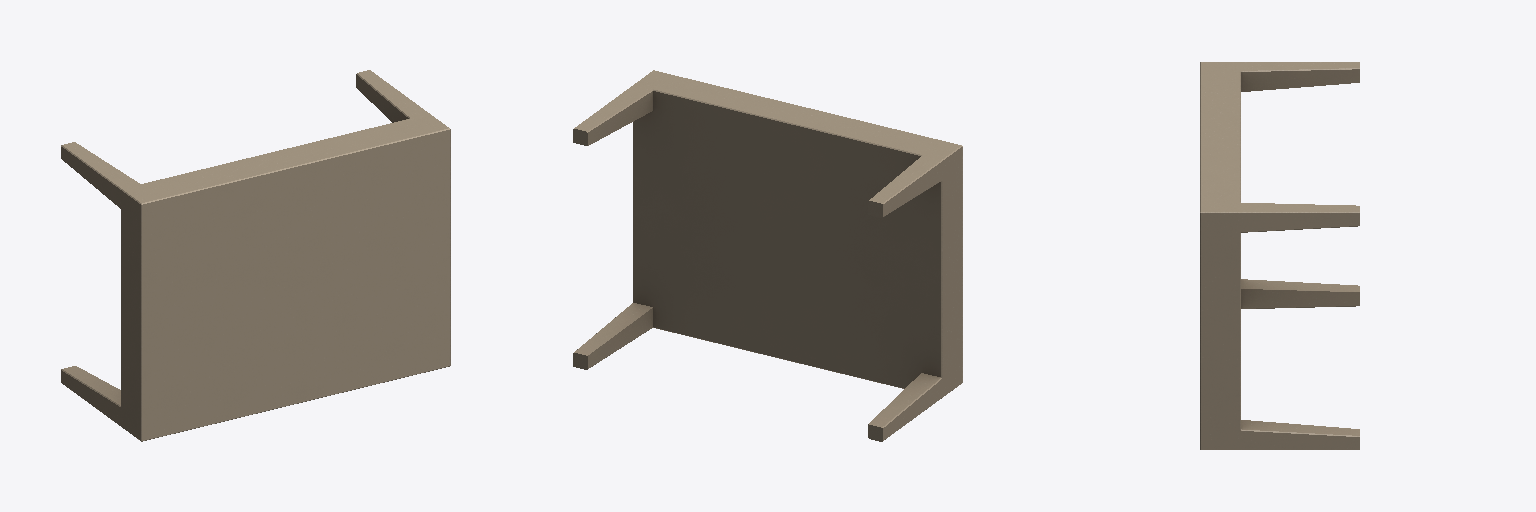
3 renders of one model, left to right at view 1: azimuth 30°, elevation 25°; view 2: azimuth 150°, elevation 25°; view 3: azimuth 270°, elevation 25°, orthographic.
Size of the model in its own units: 0.6823 by 0.5018 by 0.306.
Materials: 1 (1 with a texture image).